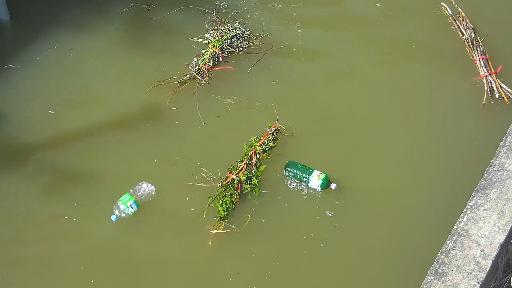plastic: (101, 174, 155, 219), (290, 157, 347, 198)
twig: (145, 0, 330, 127), (173, 101, 296, 238), (438, 0, 512, 111)
